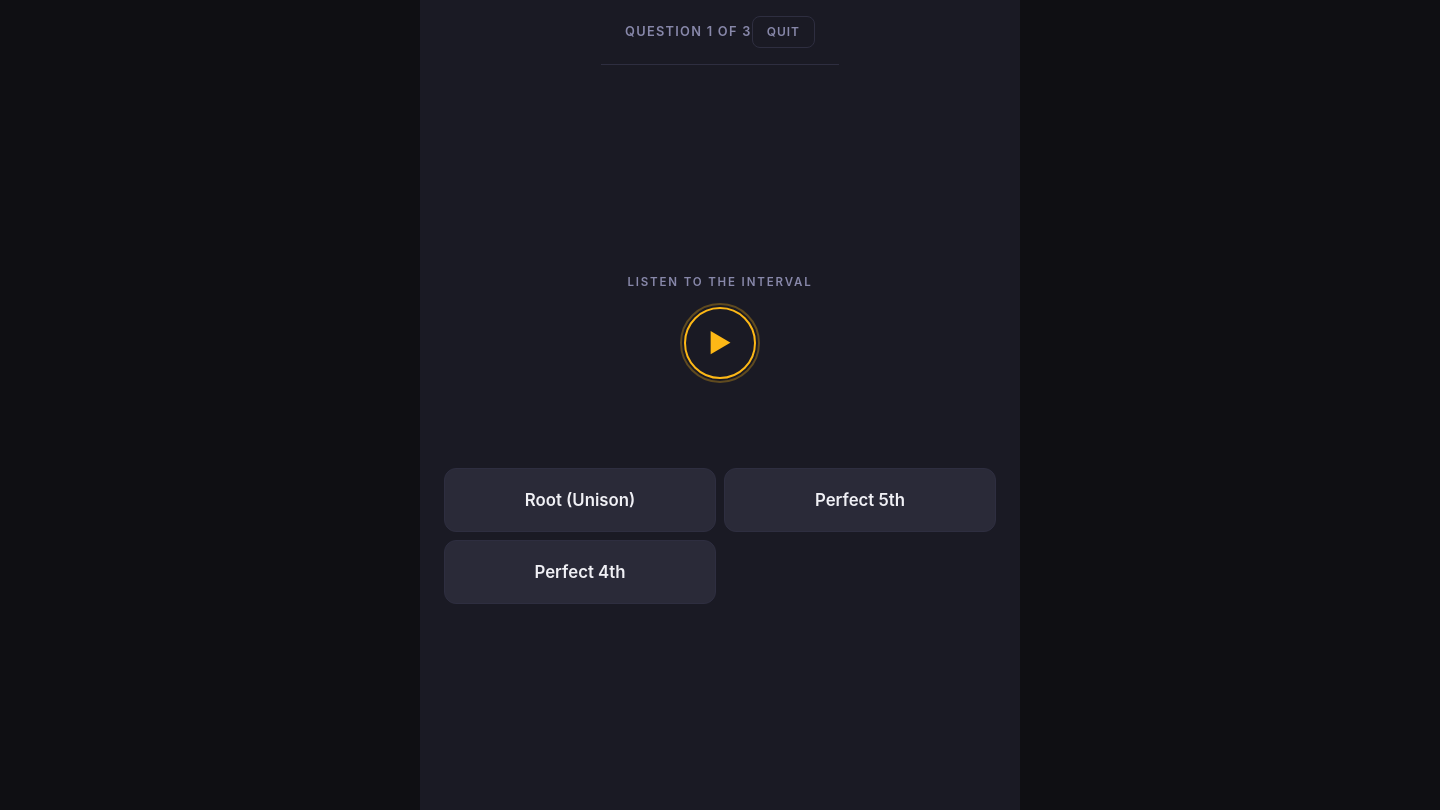
Scenario: quit modal › closes modal without navigating when "Keep Playing" clicked
The width and height of the screenshot is (1440, 810).
Click the button with test id "quit-btn". click: {"x": 783, "y": 32}
box: top-left (752, 16), bottom-right (815, 48)
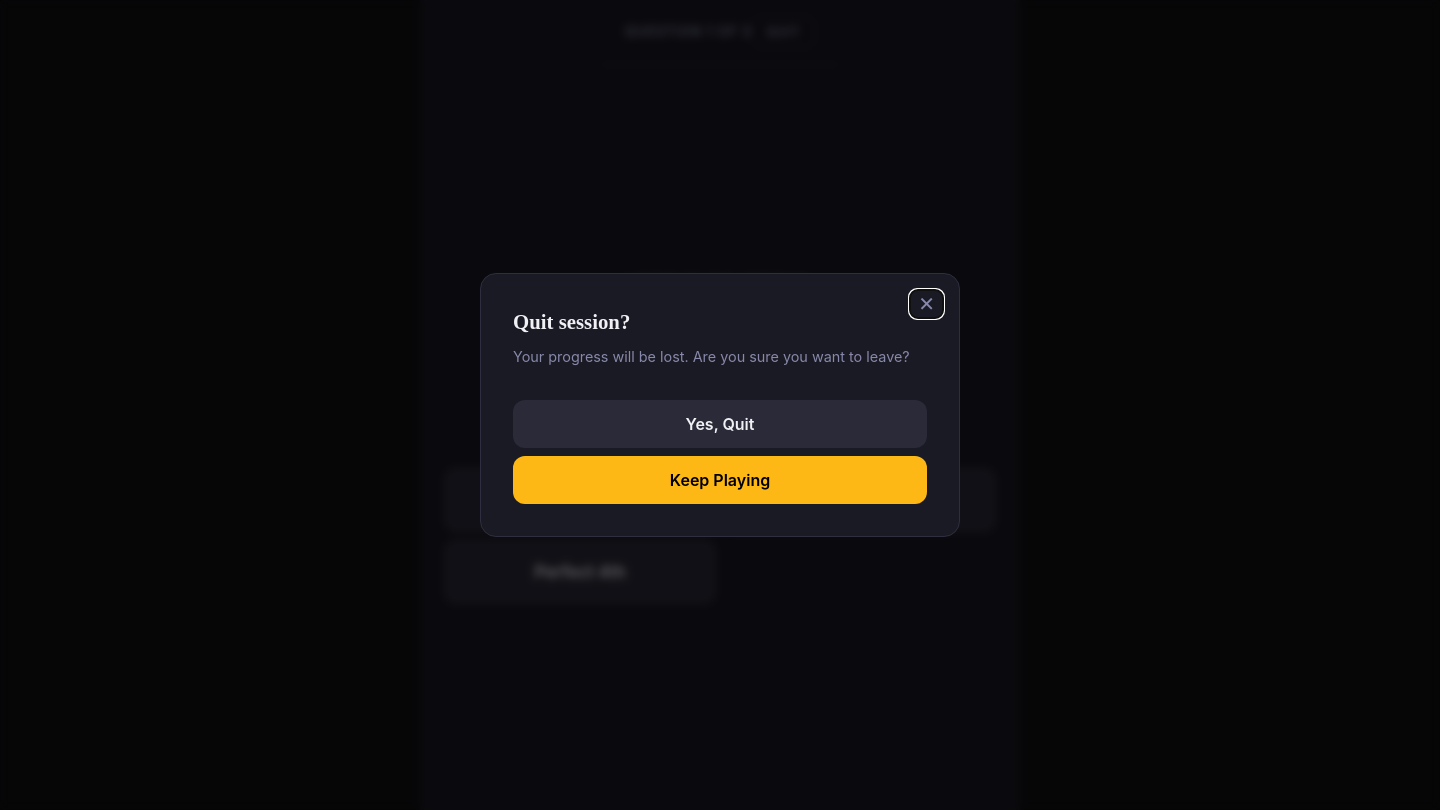
Click the button "Keep Playing". click: {"x": 720, "y": 480}
box: top-left (513, 456), bottom-right (927, 504)
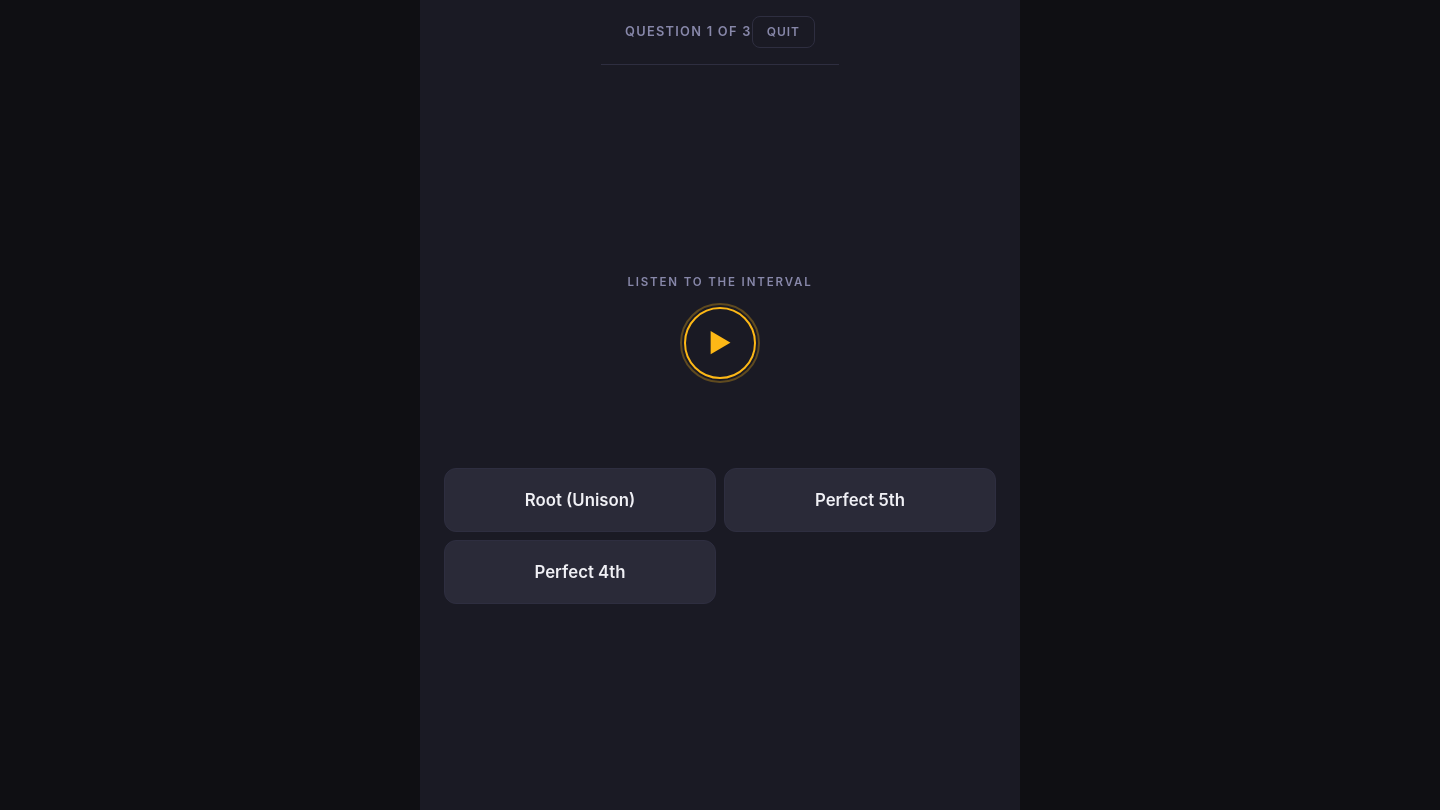
Check: the text "Quit session" is gone
